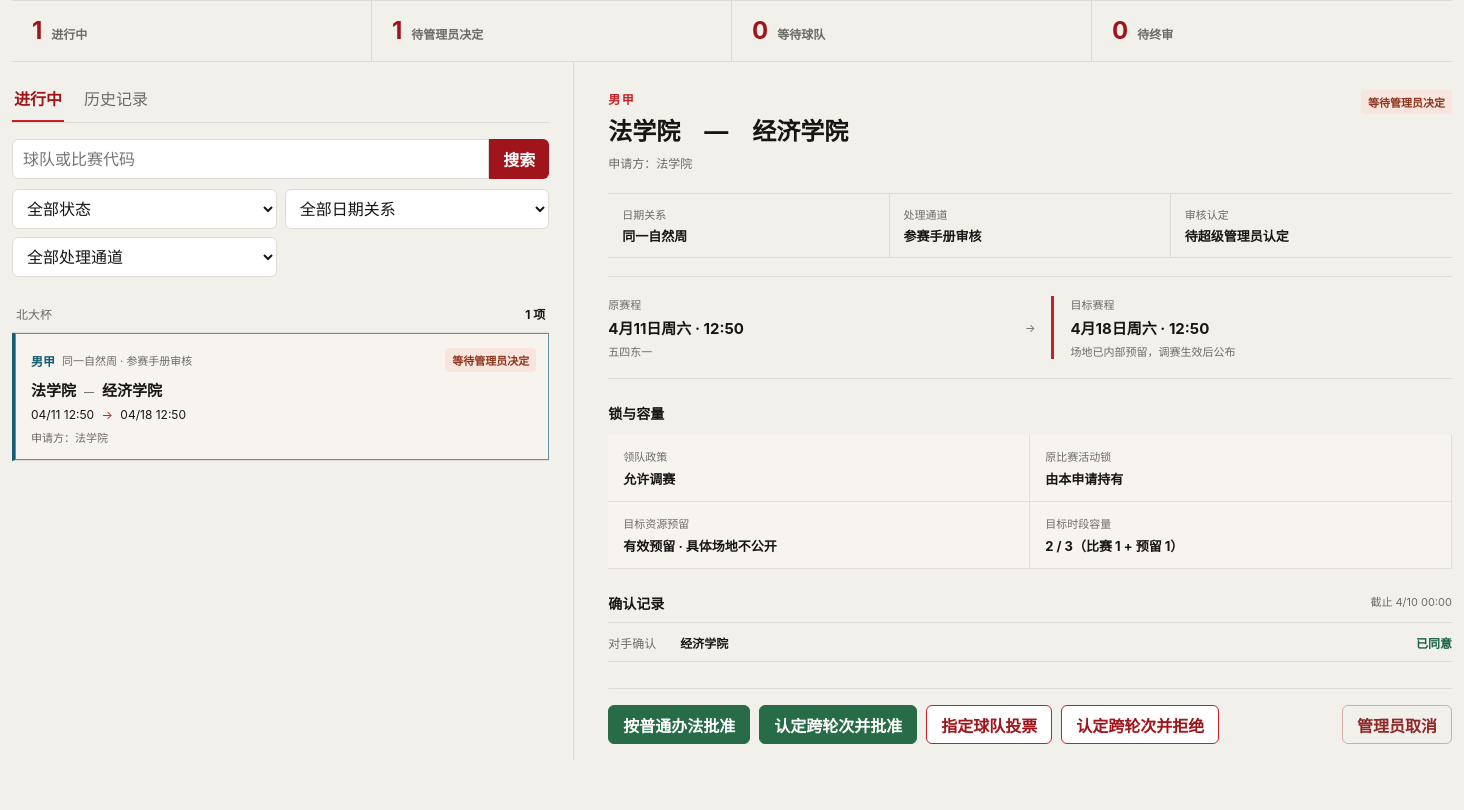
Test: RescheduleManagementPage › submits the administrator classification selected by each action
Click the button "按普通办法批准": [679, 724] box [608,705,750,744]
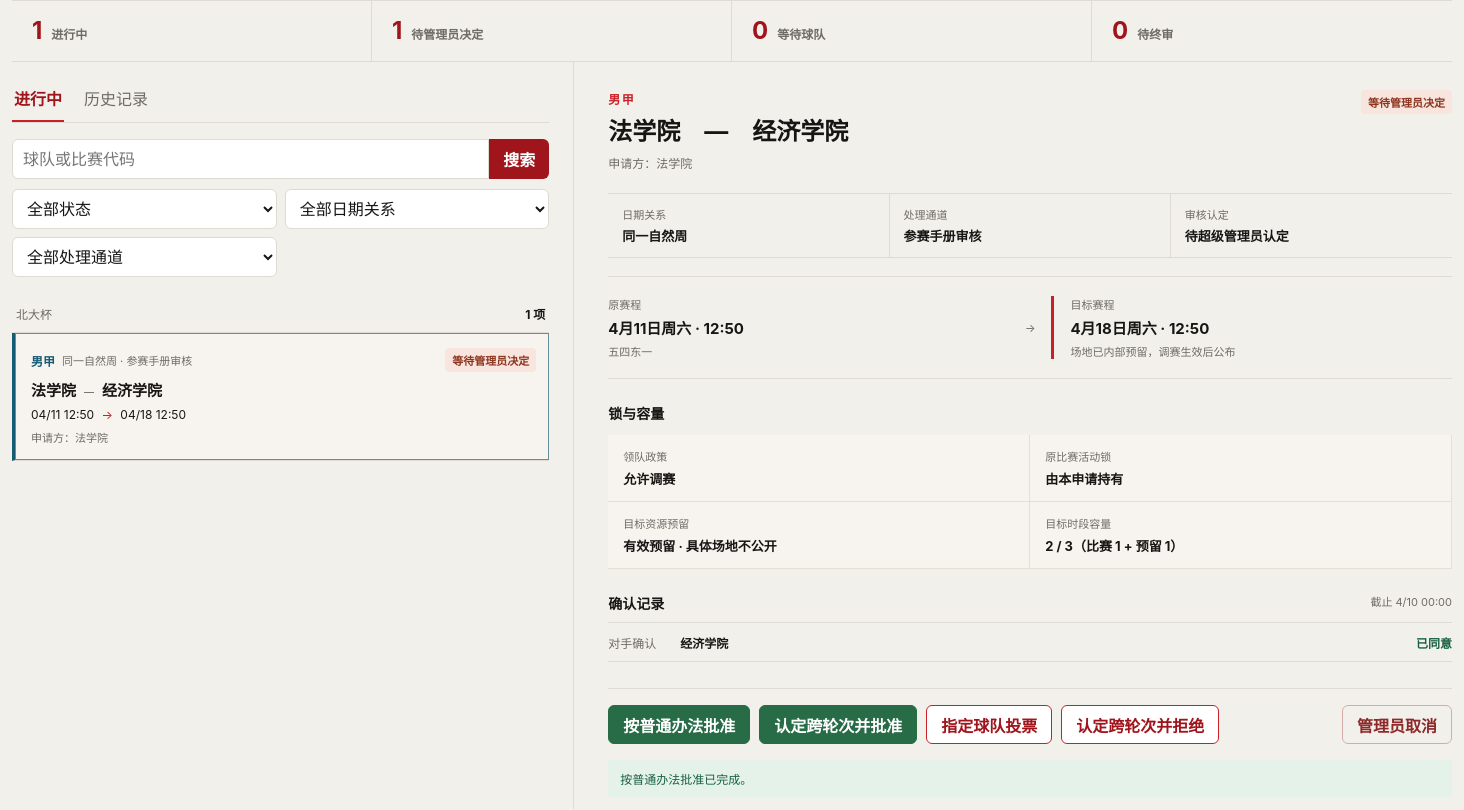
expect the message reads "按普通办法批准已完成。": met, box [620,772,752,787]
